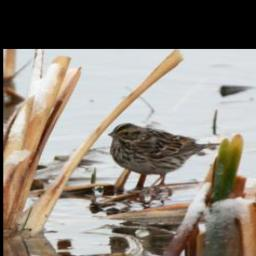Sparrow: (106, 121, 221, 199)
